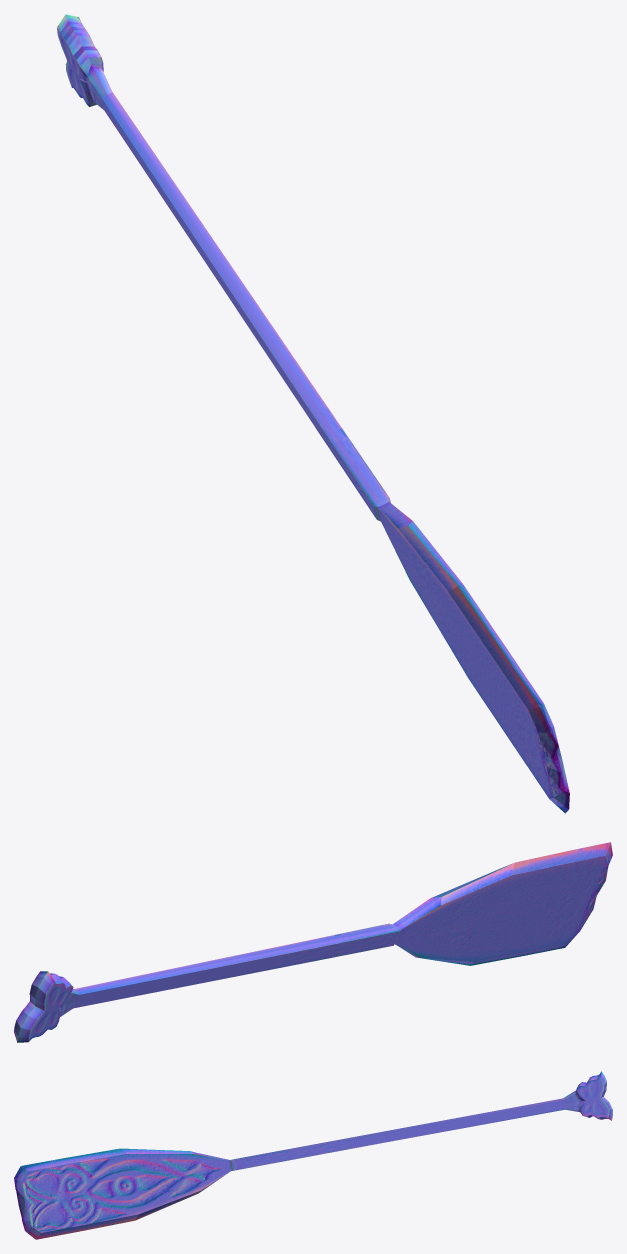
The model's file is boatspaddle2.fbx.
3 renders of one model, top to bottom at view 1: azimuth 30°, elevation 25°; view 2: azimuth 150°, elevation 25°; view 3: azimuth 270°, elevation 25°, orthographic. The views are drawn at different scales.
Visible parts, largest first — view 1: Cube.002; view 2: Cube.002; view 3: Cube.002.
Part boxes in pixels (x1=…): Cube.002: x1=57, y1=14, x2=569, y2=813; Cube.002: x1=14, y1=842, x2=612, y2=1042; Cube.002: x1=14, y1=1071, x2=612, y2=1239.
Size of the model in its own units: 1516 by 3723 by 10943.
